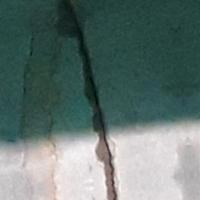crack: (58, 0, 128, 199)
